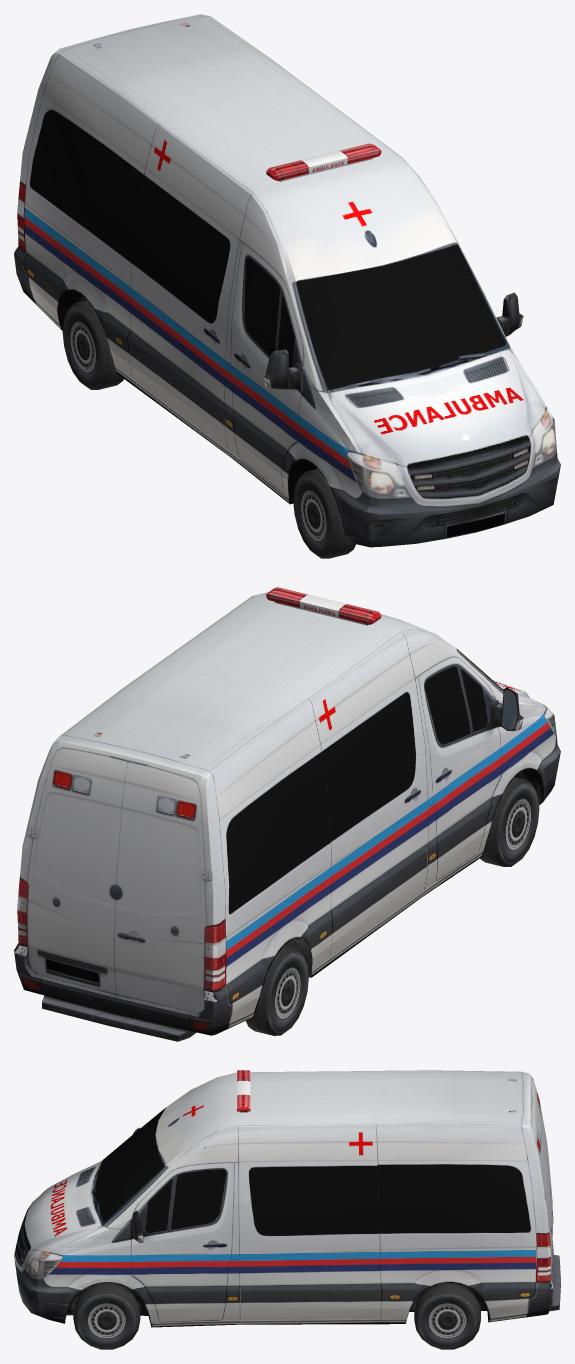
File: ambulance.fbx
3 renders of one model, top to bottom at view 1: azimuth 30°, elevation 25°; view 2: azimuth 150°, elevation 25°; view 3: azimuth 270°, elevation 25°, orthographic. The views are drawn at different scales.
Parts seen in each view (by area): view 1: body, T2, T3; view 2: body, T3, T2; view 3: body, T4, T1.
Part boxes in pixels (box(x1,y1,x2,y2)): body: box(14, 14, 560, 547); T2: box(293, 469, 355, 558); T3: box(62, 300, 123, 389); body: box(14, 587, 560, 1041); T3: box(246, 946, 308, 1035); T2: box(480, 777, 539, 866); body: box(14, 1070, 560, 1327); T4: box(73, 1283, 140, 1349); T1: box(414, 1283, 480, 1349).
Bounding box in the file's own units: 628 × 715 × 1568.
1 material, 1 textured.
